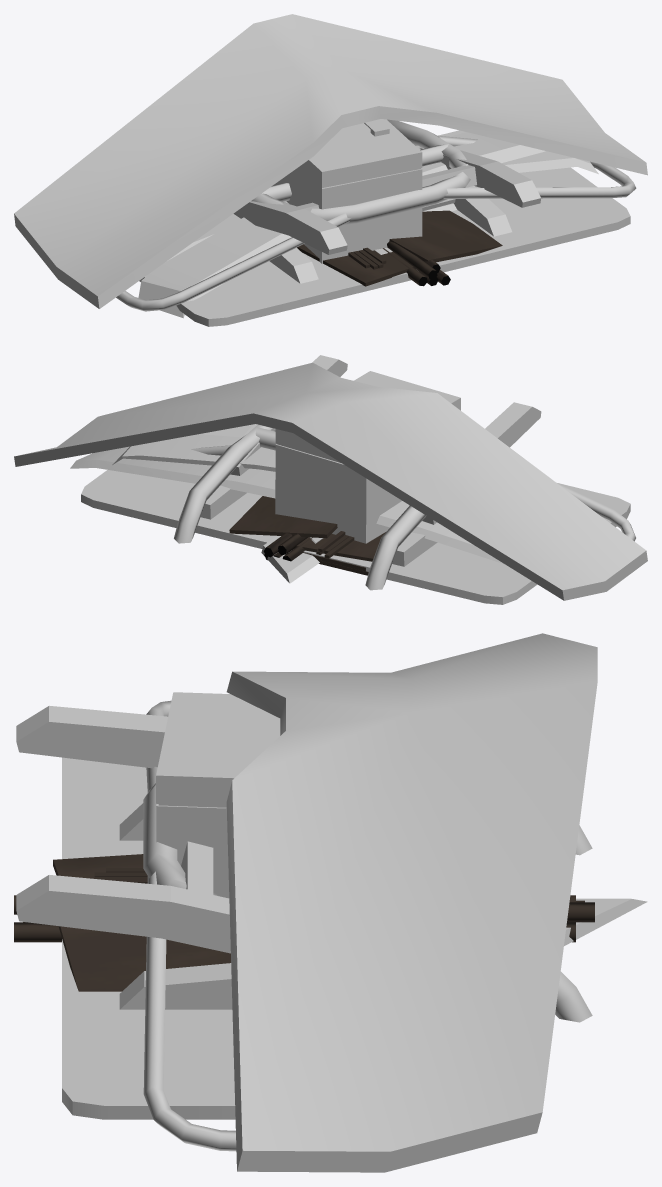
File: ATA_VanDeRumba_witems.fbx
3 views of the same model, one above another, from view 1: azimuth 30°, elevation 25°; view 2: azimuth 150°, elevation 25°; view 3: azimuth 270°, elevation 25° (orthographic). The views are drawn at different scales.
Parts seen in each view (by area): view 1: bumper3, armor_hood, roof_toolbox, bumper1, armor_window_front, sheet_sq, bumper2, pipes; view 2: bumper3, armor_hood, roof_toolbox, armor_window_front, bumper1, sheet_sq, bumper2, armor_window_left, pipes; view 3: bumper3, armor_hood, roof_toolbox, bumper1, sheet_sq, bumper2, pipes, armor_window_left.
Boxes of the visible parts, box(x1,y1,x2,y2) form: bumper3: box(14, 14, 647, 308); armor_hood: box(139, 130, 630, 326); roof_toolbox: box(273, 119, 422, 263); bumper1: box(116, 119, 636, 311); armor_window_front: box(138, 132, 598, 318); sheet_sq: box(297, 210, 502, 286); bumper2: box(269, 186, 511, 283); pipes: box(383, 241, 450, 286); bumper3: box(14, 355, 647, 600); armor_hood: box(81, 424, 630, 604); roof_toolbox: box(275, 371, 460, 543); armor_window_front: box(70, 434, 504, 564); bumper1: box(174, 424, 635, 590); sheet_sq: box(229, 496, 385, 575); bumper2: box(200, 485, 437, 566); armor_window_left: box(261, 536, 323, 583); pipes: box(263, 533, 312, 561); bumper3: box(16, 633, 597, 1172); armor_hood: box(62, 757, 235, 1119); roof_toolbox: box(156, 692, 280, 898); bumper1: box(143, 700, 592, 1151); sheet_sq: box(53, 854, 230, 991); bumper2: box(119, 803, 232, 1009); pipes: box(14, 895, 594, 942); armor_window_left: box(564, 898, 647, 945).
Bounding box in the file's own units: 222 × 60.38 × 124.
